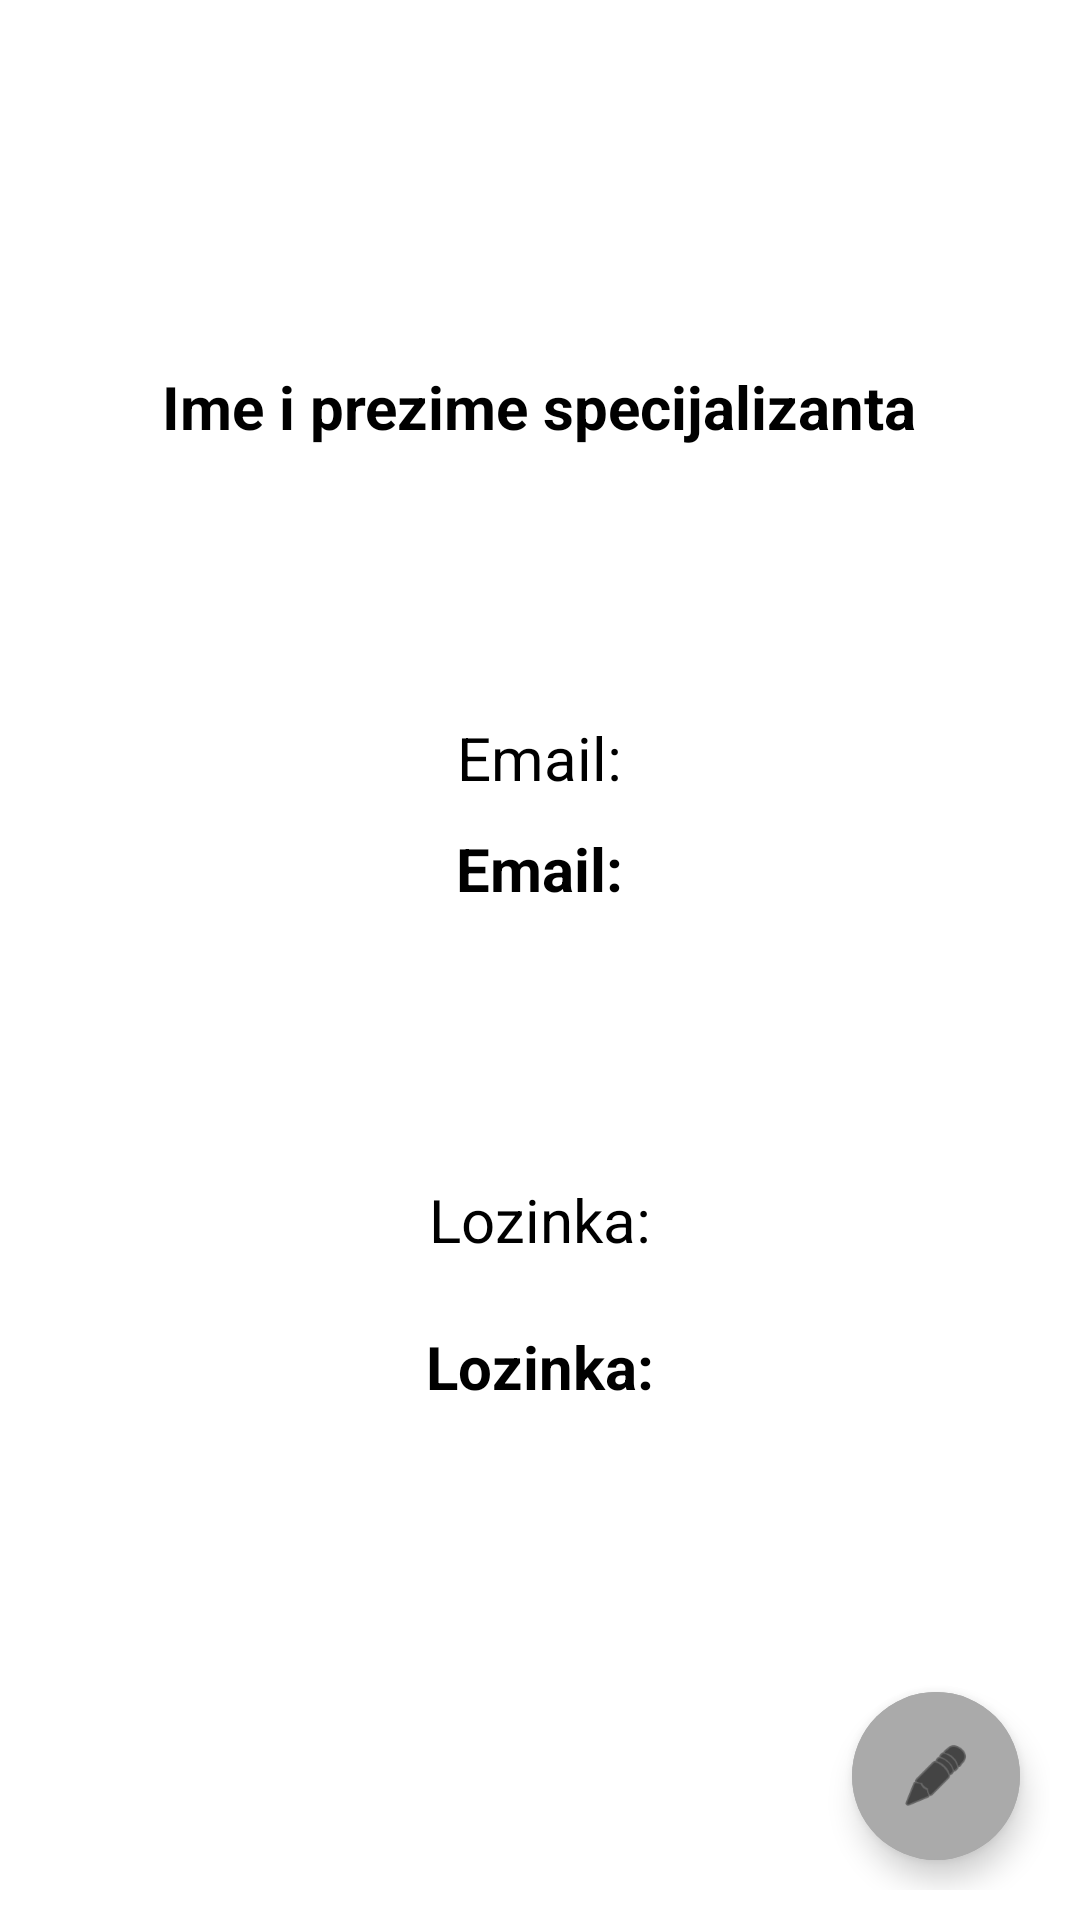

Icon bounding boxes for this 1080px×1920px phone screenshot, format (x1, y1, x2, y2):
edit: (852, 1692, 1020, 1860)
